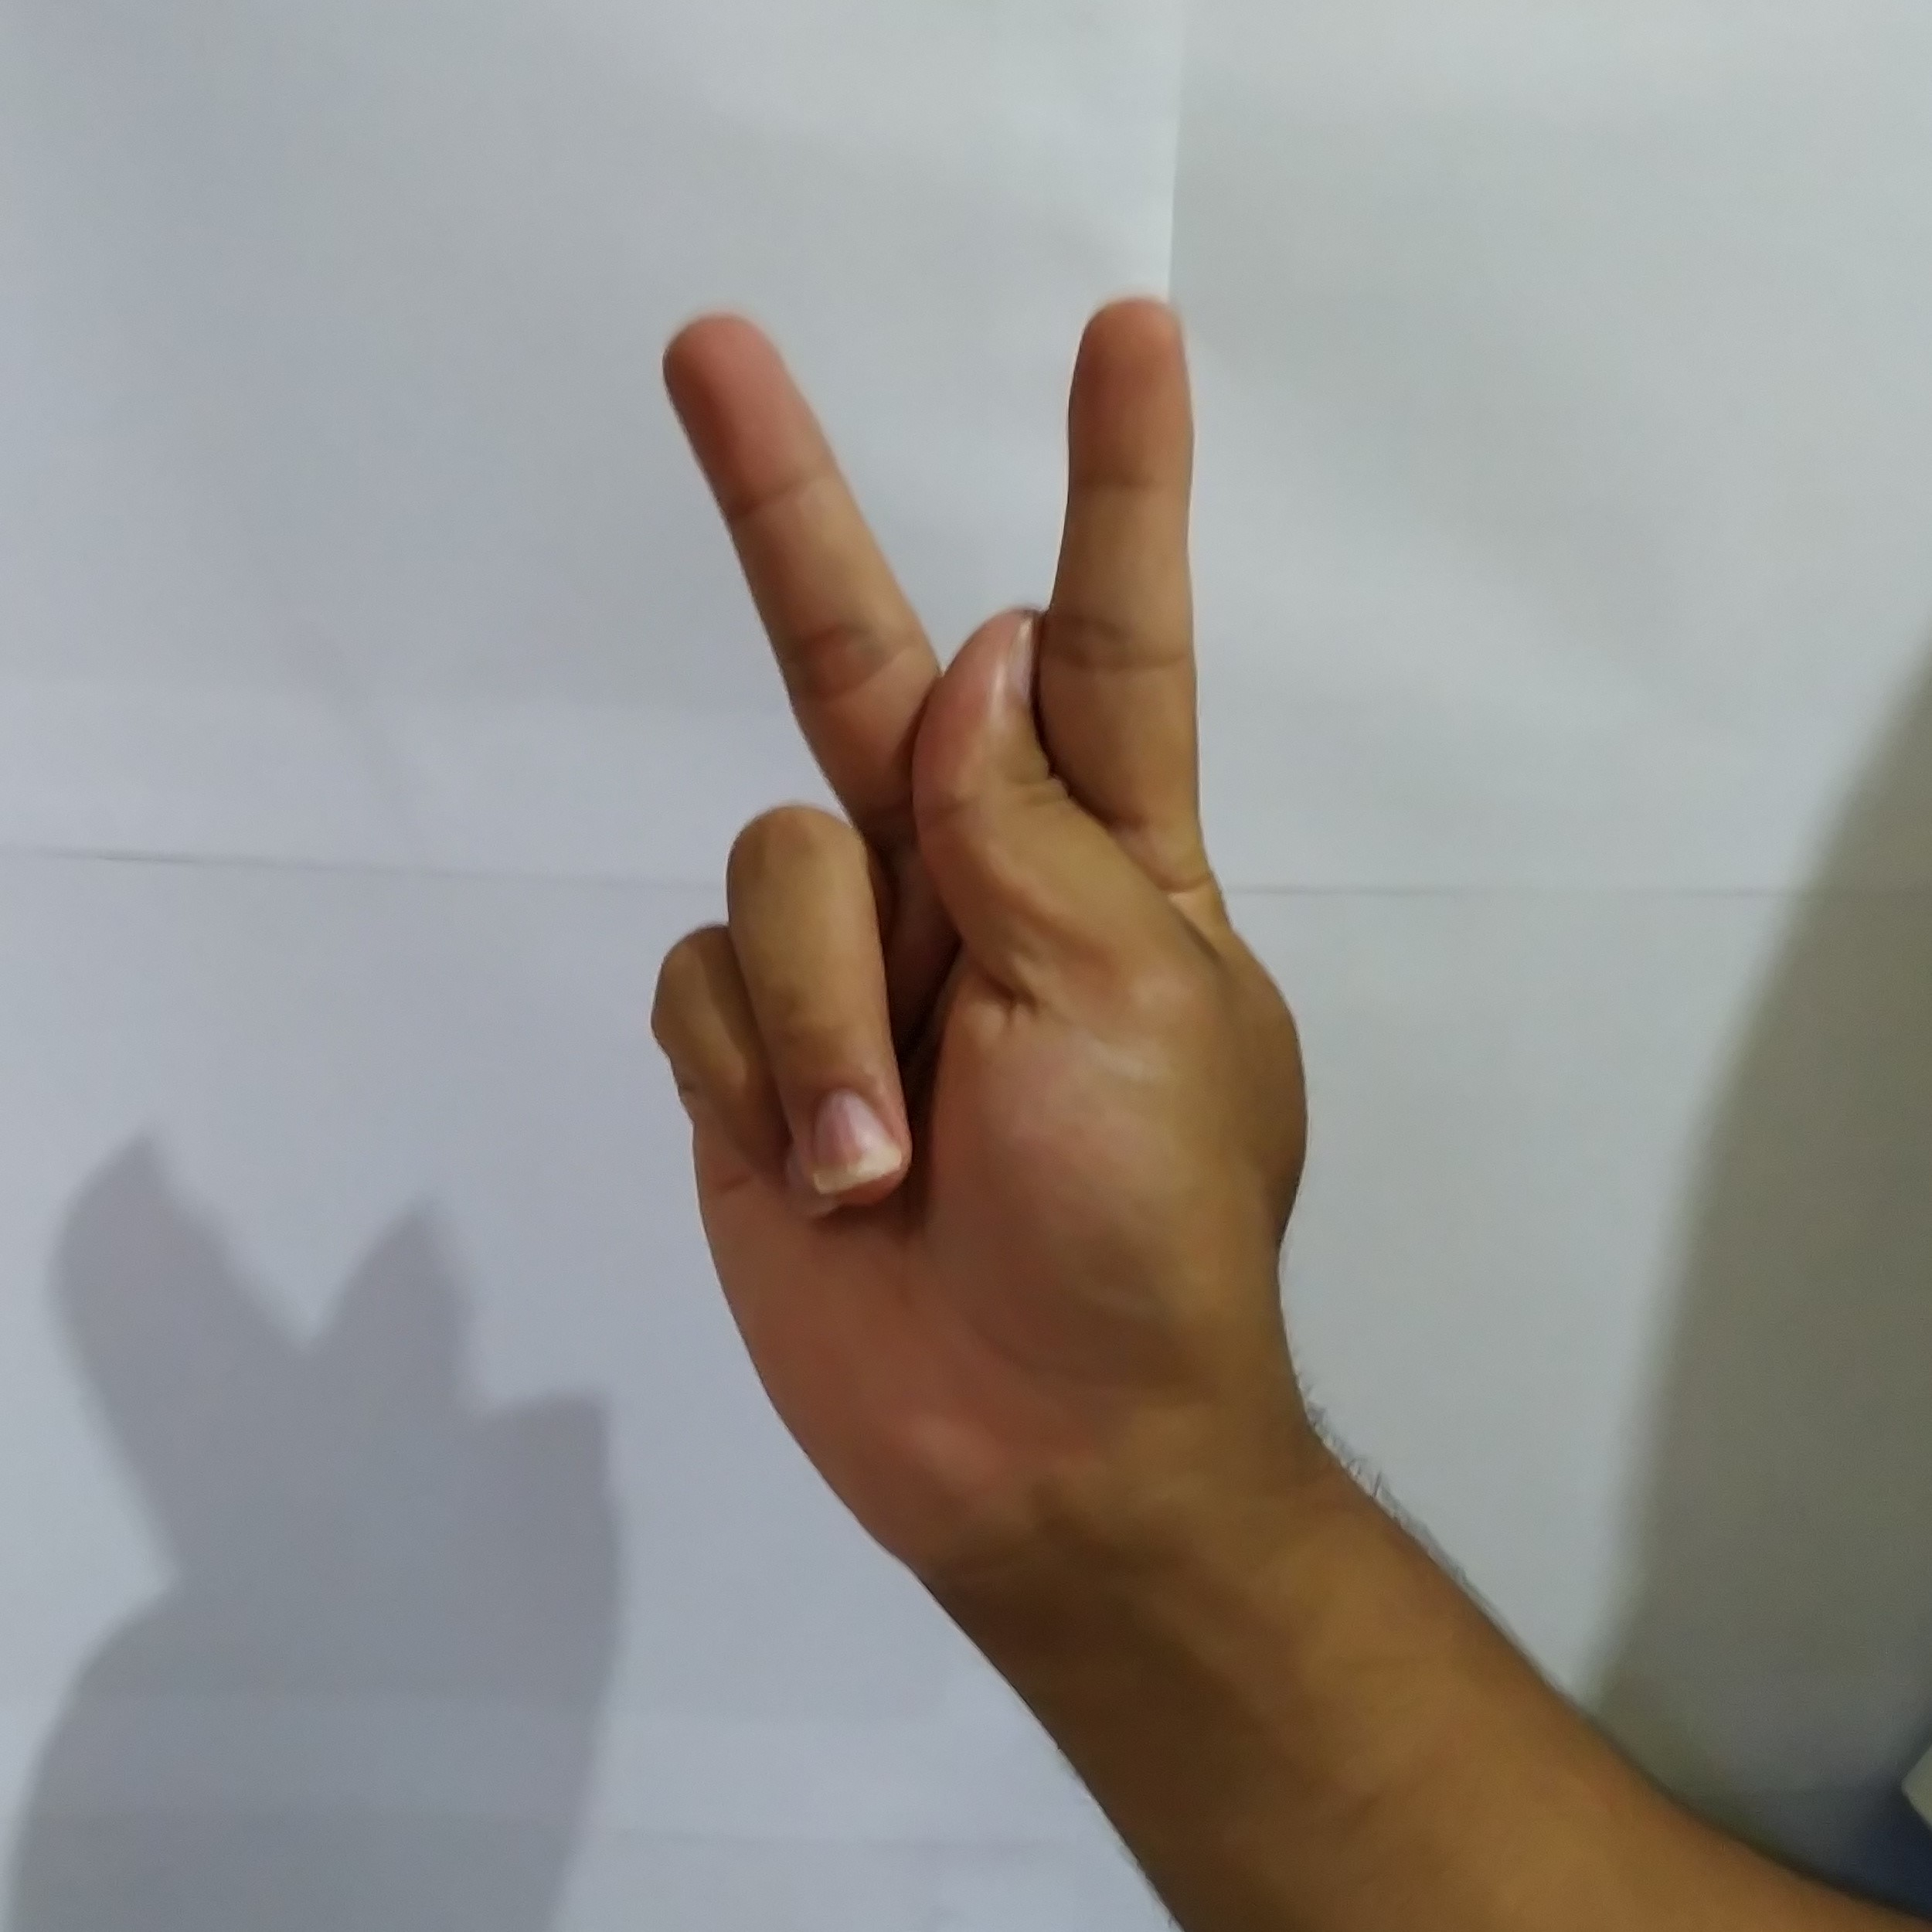K: (605, 260, 1332, 1468)
